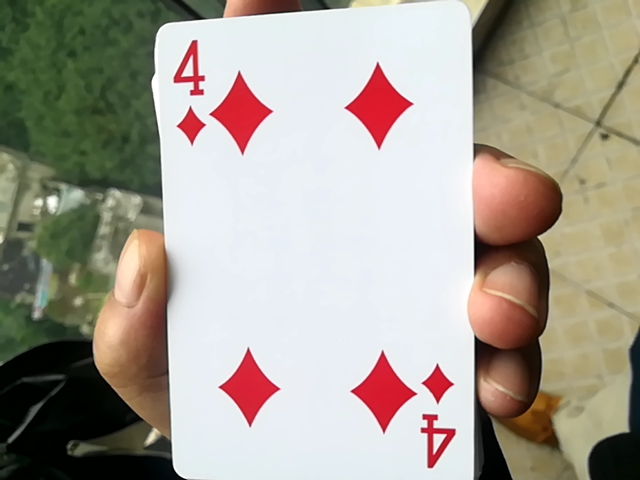fk 4: (141, 0, 481, 477)
